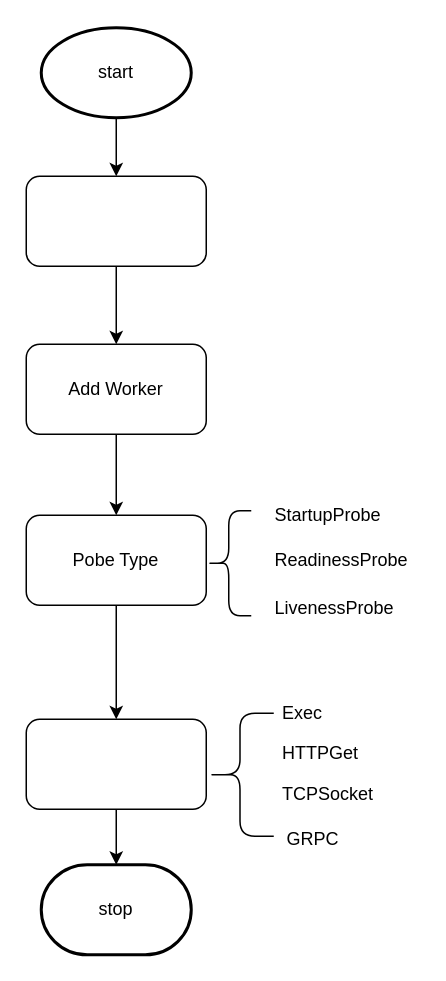
The diagram is 446 pixels wide and 981 high, and some of its shapes have lost their labels. Here are the shapes that lost their labels. From the top down, the box of each, then its label:
(25, 175, 206, 266): Add Pod
(25, 718, 206, 809): Check mechanism
